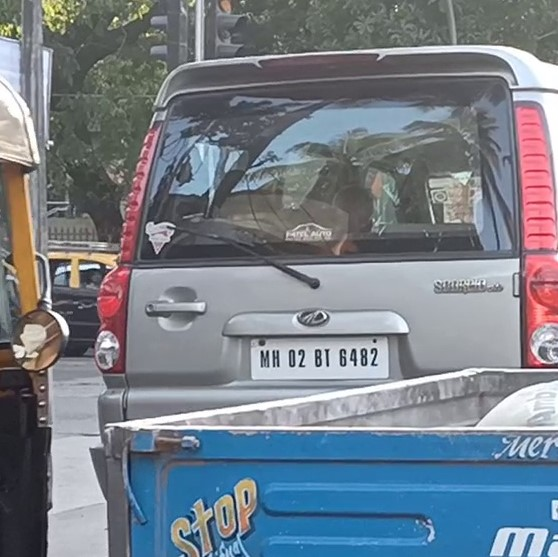MH02BT6482: (247, 336, 390, 382)
